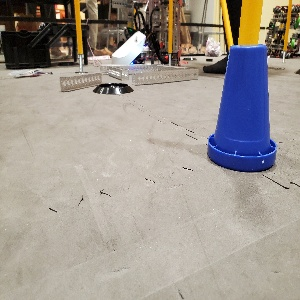Blue_1: (206, 42, 276, 170)
